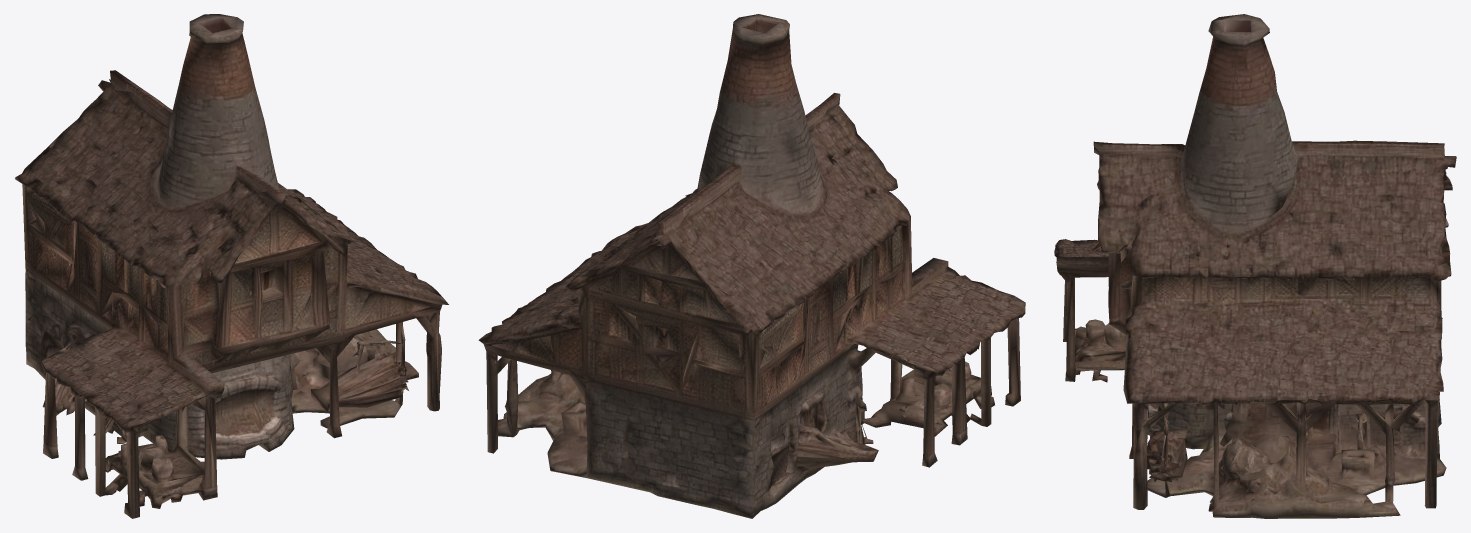
File: blacksmith.glb
The picture shows the model from 3 angles, left to right: view 1: azimuth 30°, elevation 25°; view 2: azimuth 150°, elevation 25°; view 3: azimuth 270°, elevation 25°; orthographic projection.
Size of the model in its own units: 1.88 by 1.89 by 1.73.
Materials: 1 (1 with a texture image).
